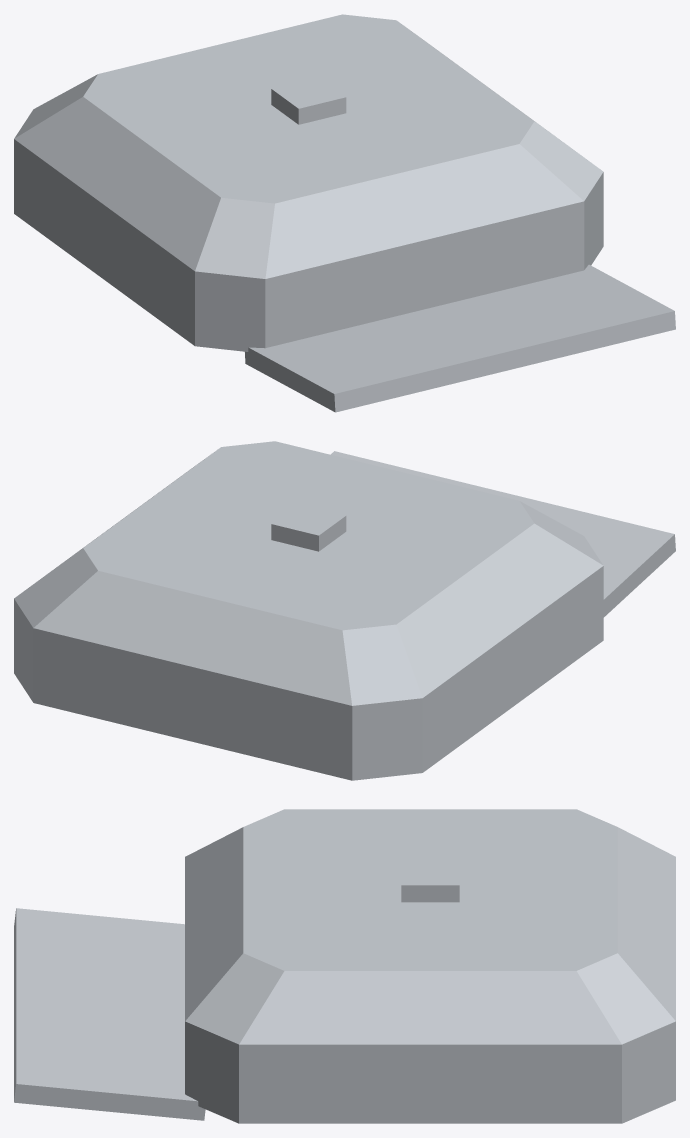
The model's file is npc_gear_cap.fbx.
The picture shows the model from 3 angles, top to bottom: view 1: azimuth 30°, elevation 25°; view 2: azimuth 150°, elevation 25°; view 3: azimuth 270°, elevation 25°; orthographic projection. The views are drawn at different scales.
Visible parts, largest first — view 1: npc_gear_cap; view 2: npc_gear_cap; view 3: npc_gear_cap.
Boxes of the visible parts, bbox=[...] form: npc_gear_cap: bbox=[14, 14, 675, 412]; npc_gear_cap: bbox=[14, 441, 675, 780]; npc_gear_cap: bbox=[14, 809, 675, 1123].
Size of the model in its own units: 120 by 42.39 by 159.
